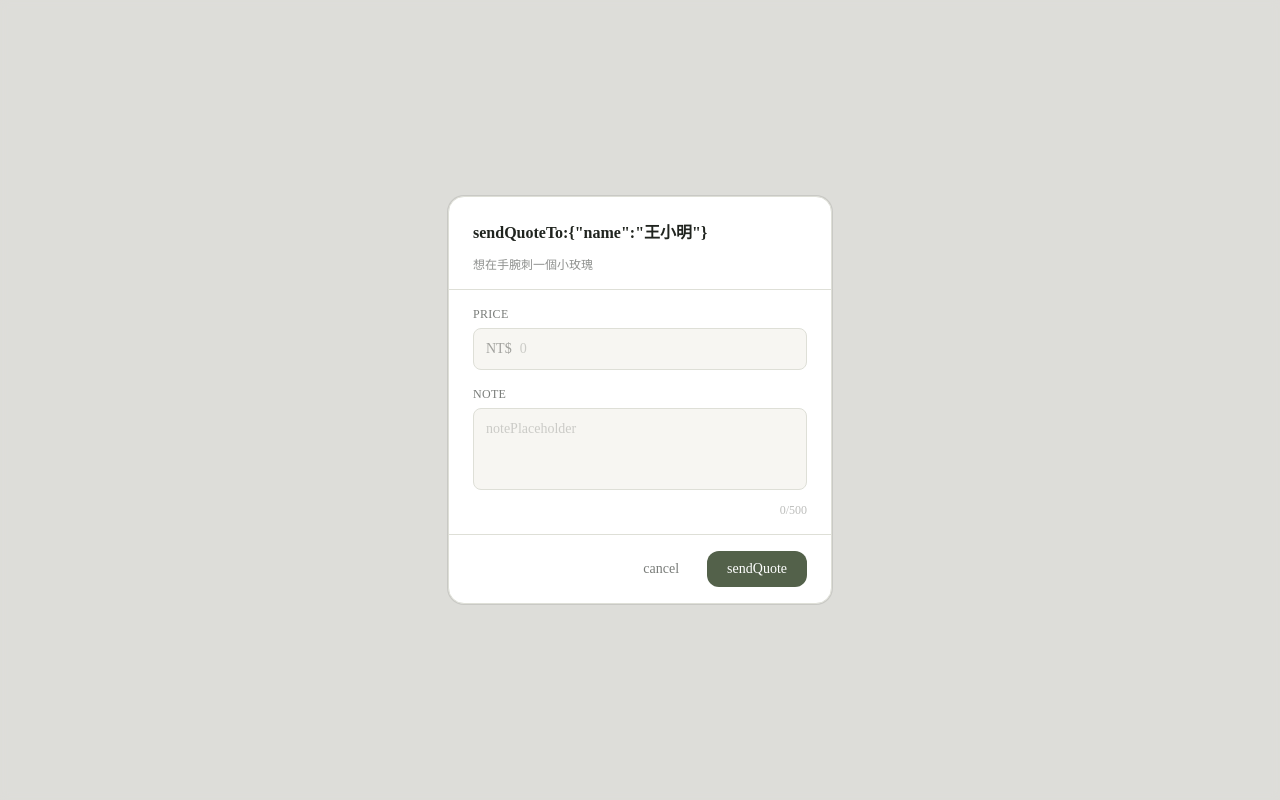
it: QuoteFormModal › shows error when submitting without price
Click the button "sendQuote" at [757, 569], box [707,551,807,587]
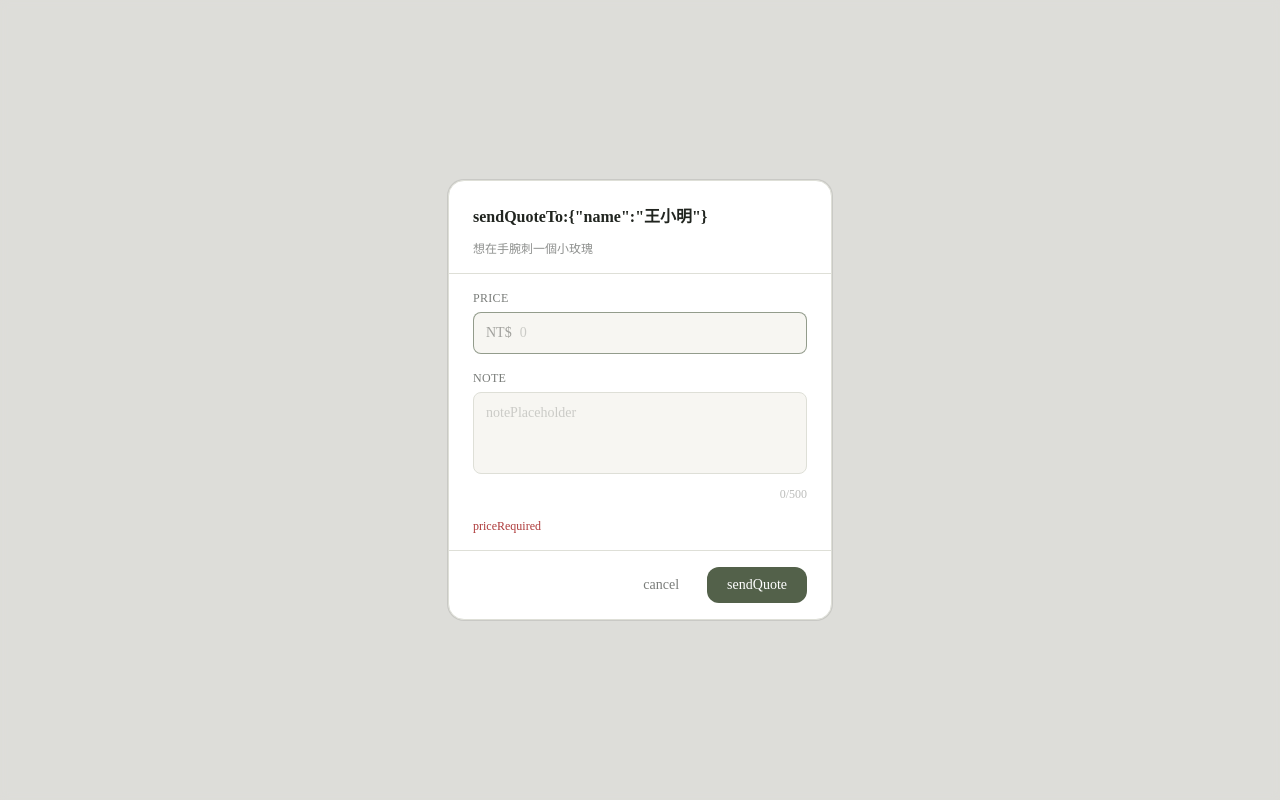
Expected: the text "priceRequired" is shown, [473,519,541,533]
